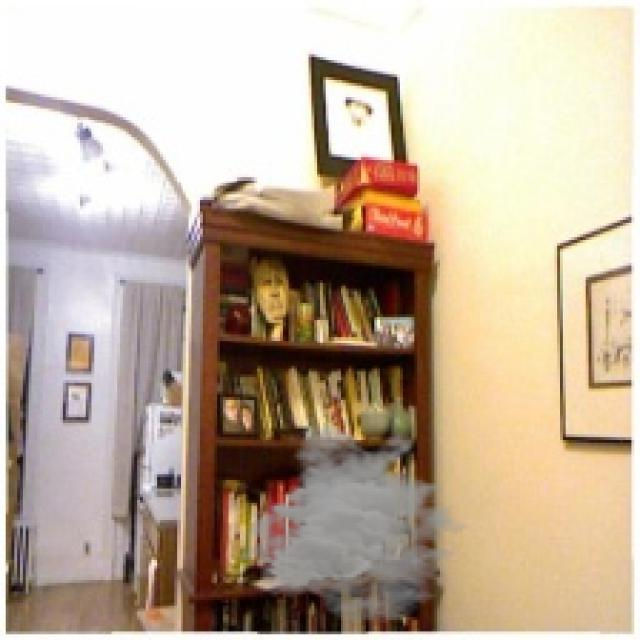smoke: (237, 423, 477, 626)
